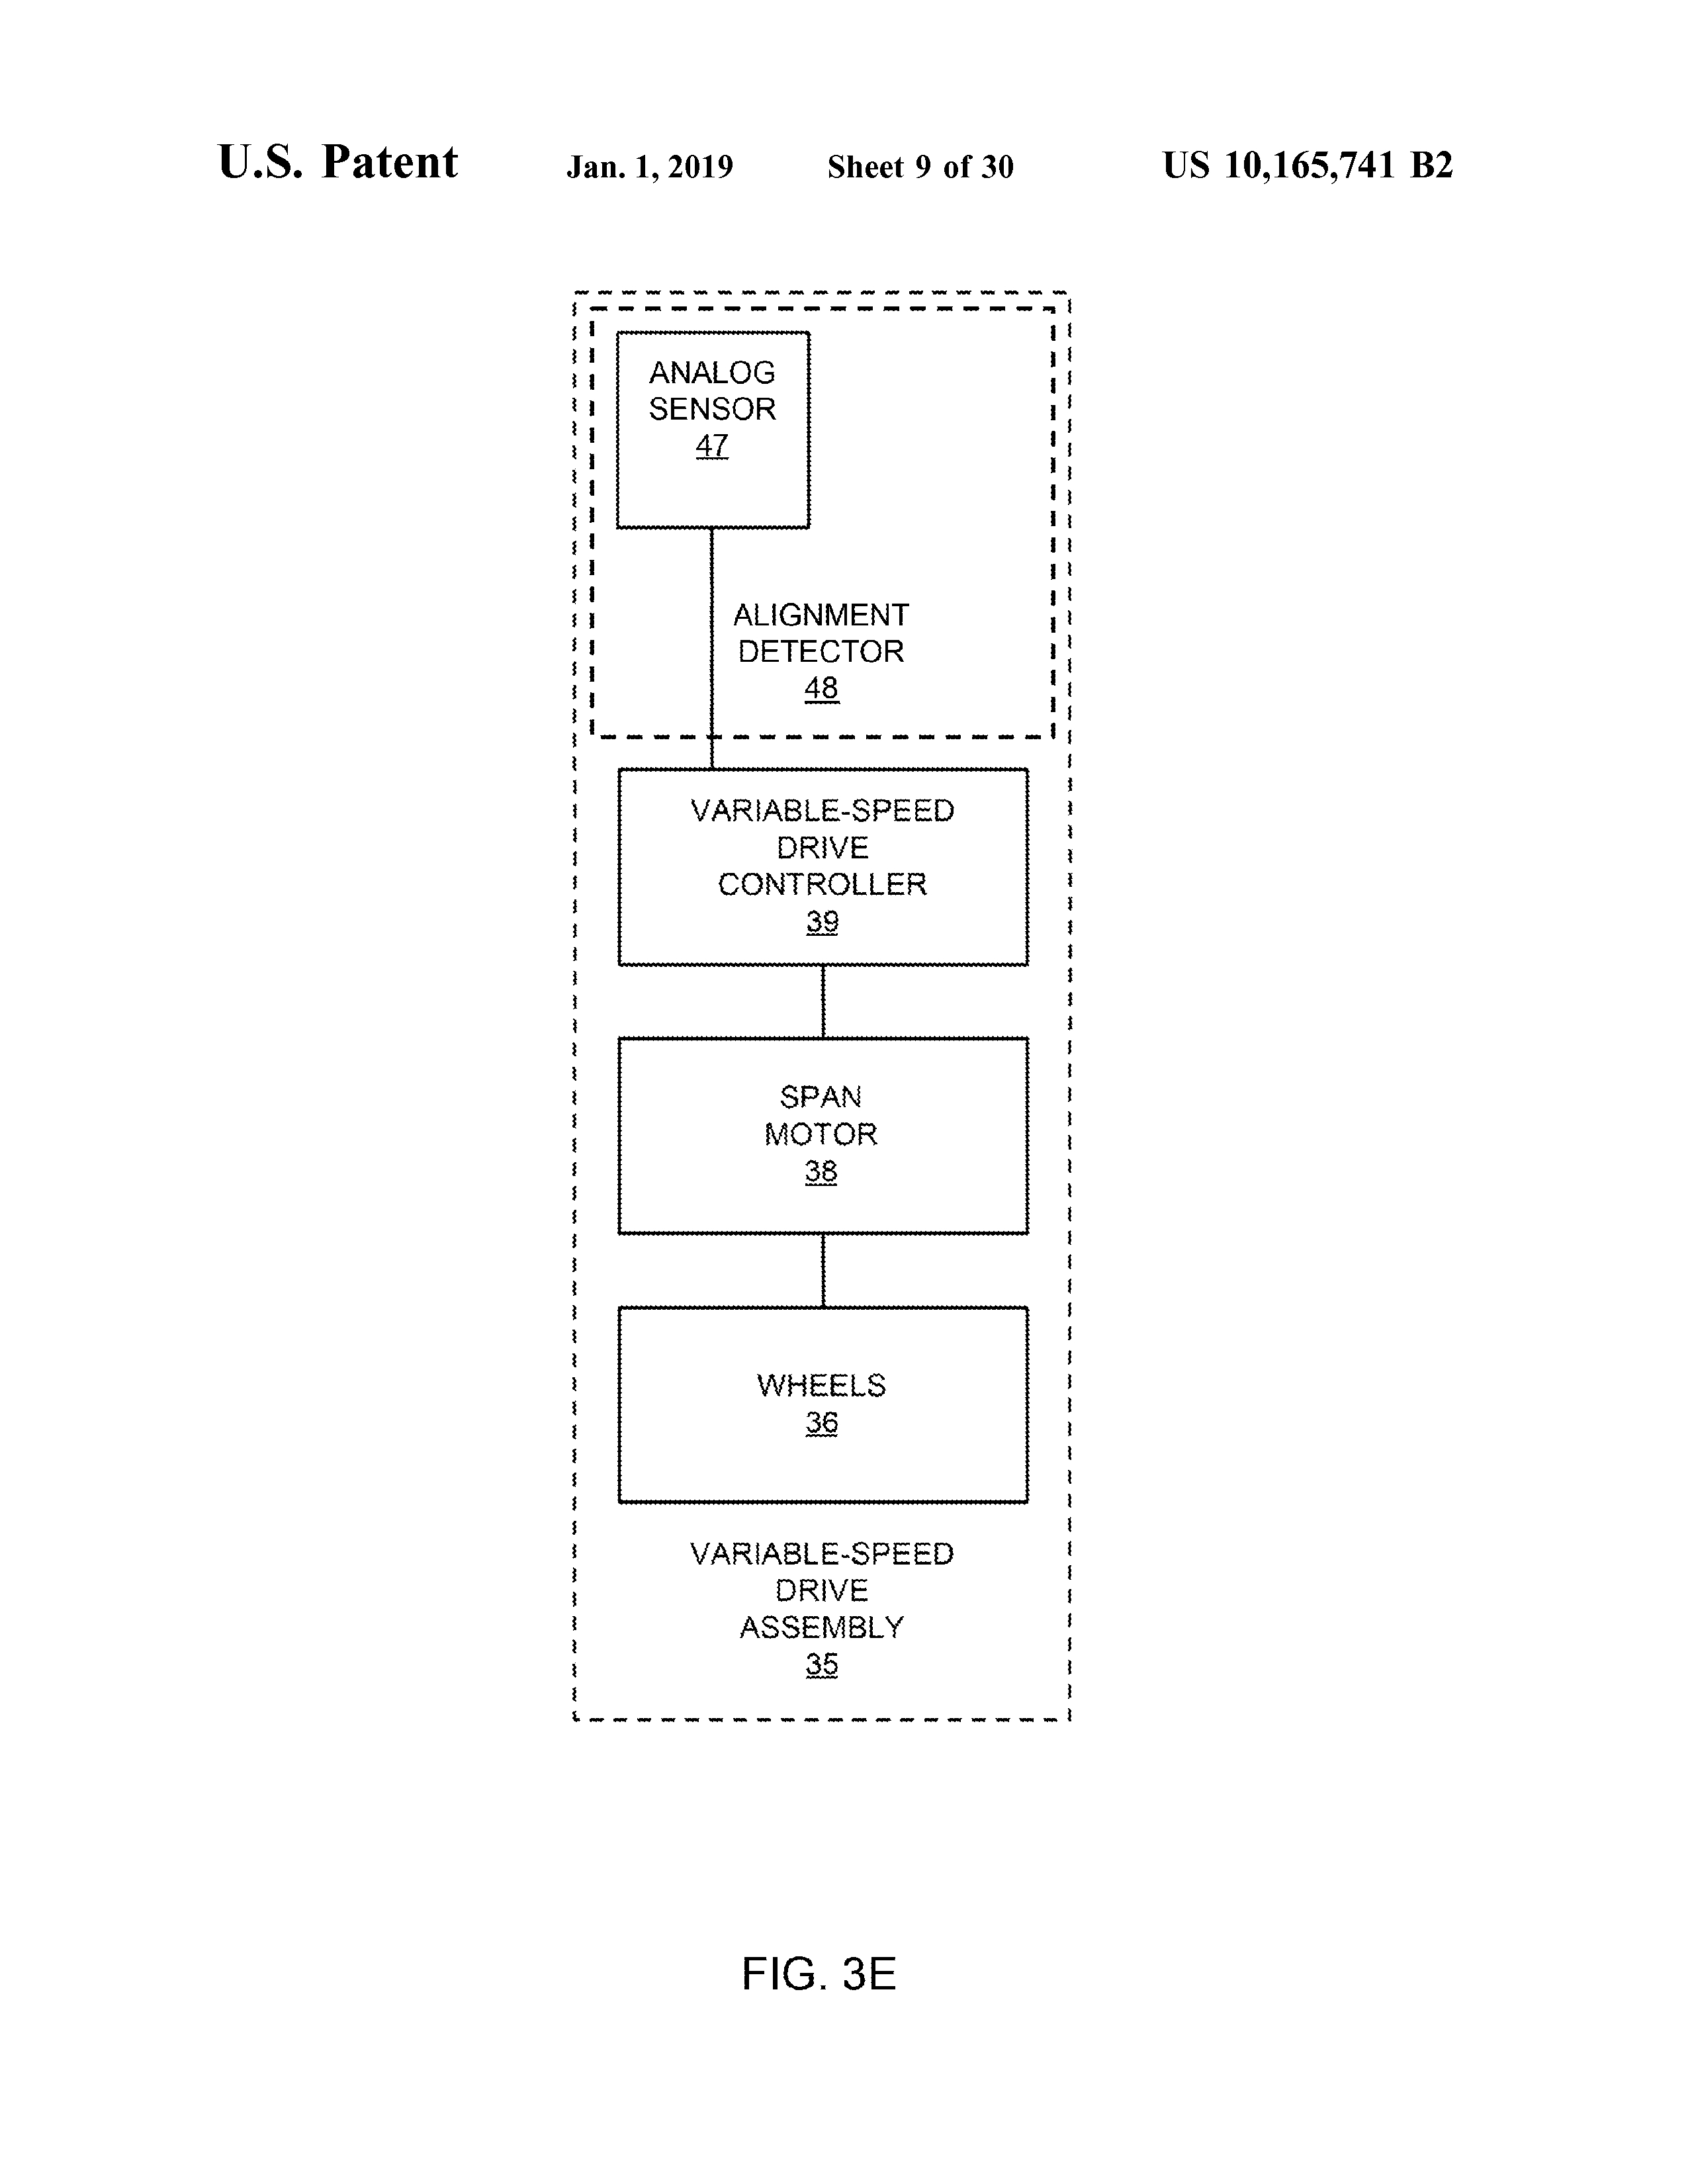patent image: (551, 242, 1091, 2010)
